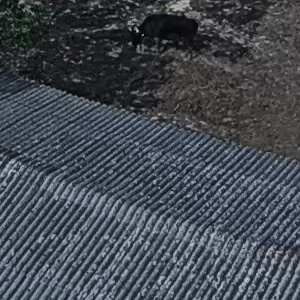cow: (132, 4, 222, 54)
